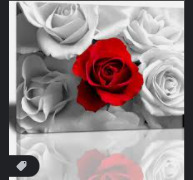RedRose: (72, 37, 144, 111)
